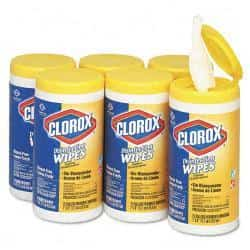Wipes: (169, 11, 243, 239), (29, 65, 106, 227), (8, 51, 77, 204), (105, 65, 170, 223), (146, 51, 218, 78), (77, 50, 145, 75)
